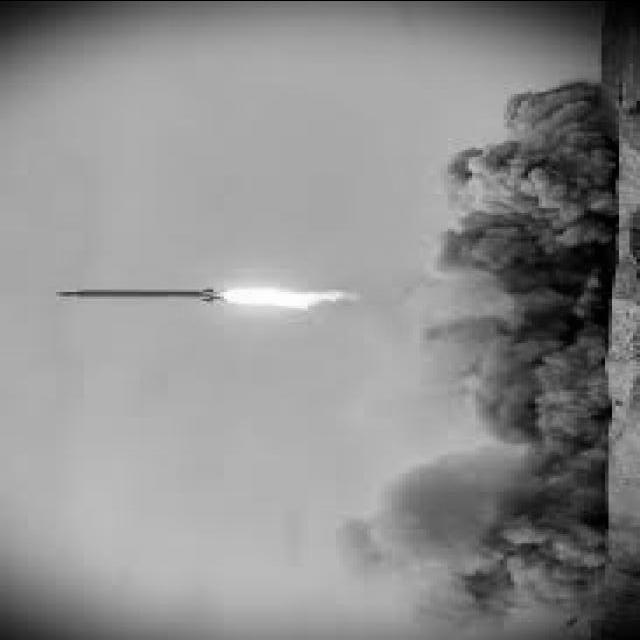Missile: (56, 284, 227, 303)
